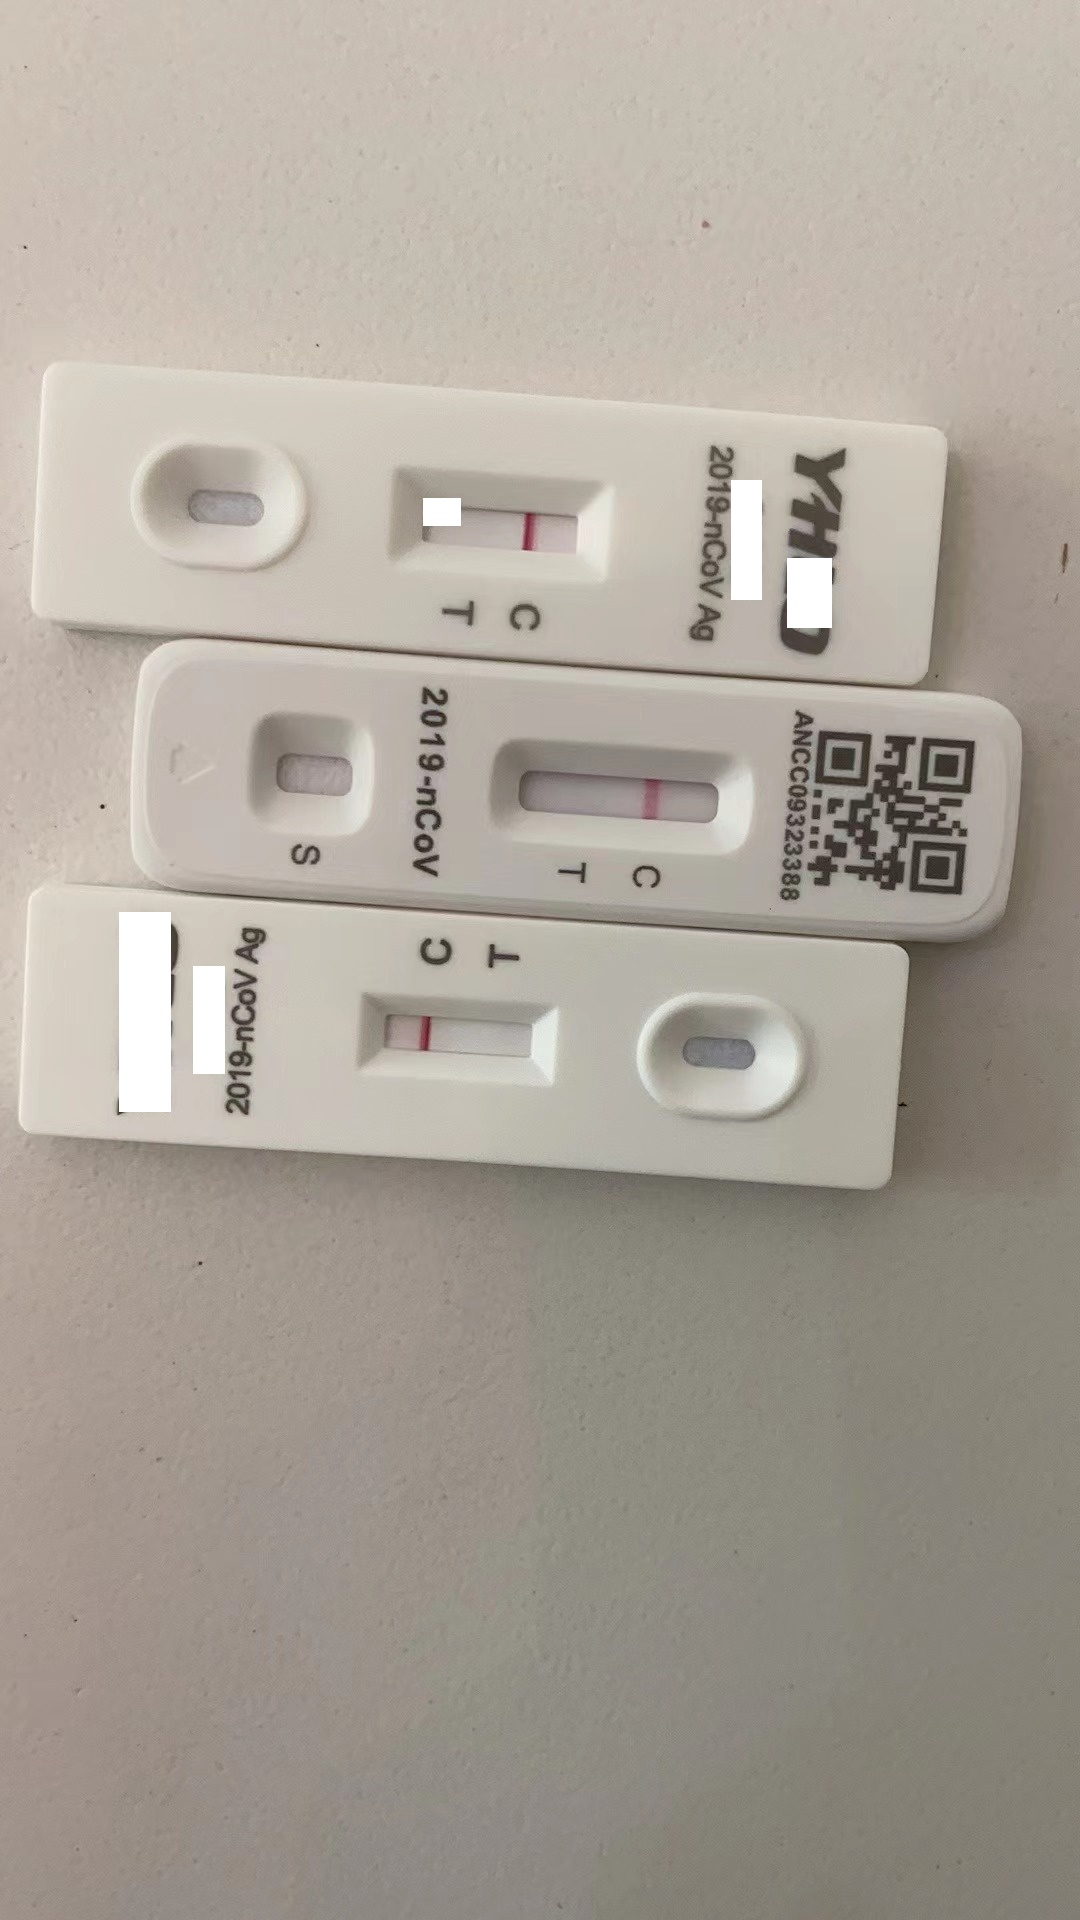negative: (477, 741, 757, 843), (396, 465, 611, 576), (355, 994, 563, 1079)
